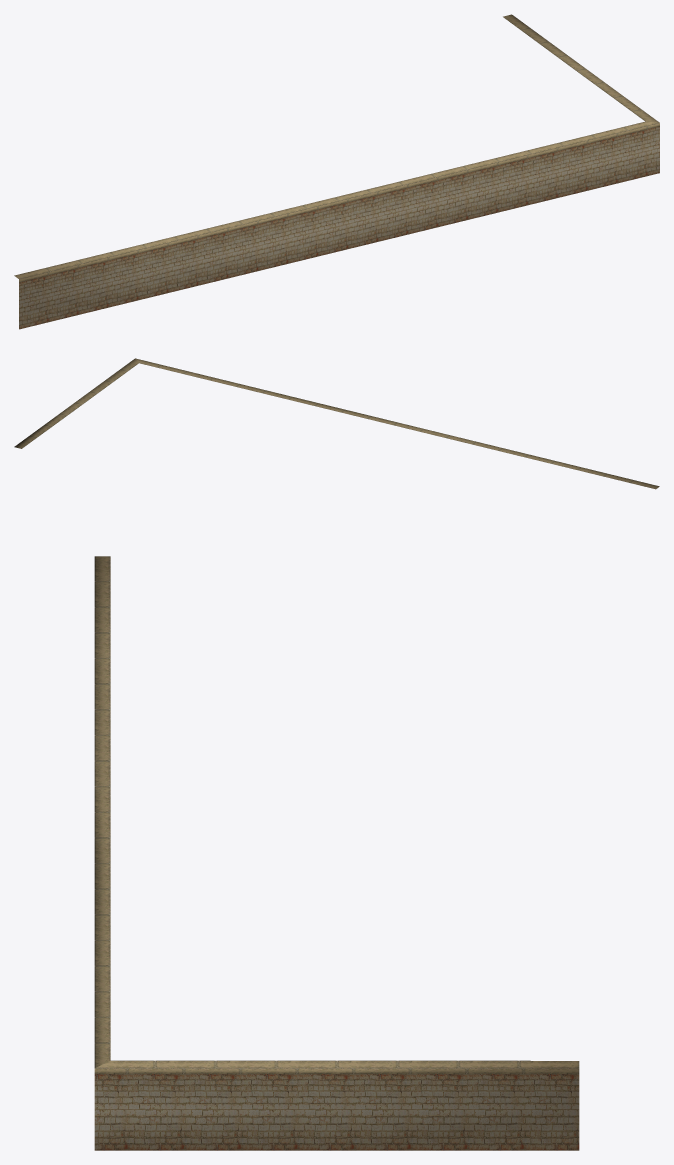
The model's file is M10_Z01_06_Wall.glb.
3 renders of one model, top to bottom at view 1: azimuth 30°, elevation 25°; view 2: azimuth 150°, elevation 25°; view 3: azimuth 270°, elevation 25°, orthographic. The views are drawn at different scales.
Visible parts, largest first — view 1: M10_Z01_06_WALL; view 2: M10_Z01_06_WALL; view 3: M10_Z01_06_WALL.
Part boxes in pixels (x1,y1,x2,y2): M10_Z01_06_WALL: (14,14,659,329); M10_Z01_06_WALL: (14,358,659,489); M10_Z01_06_WALL: (94,556,579,1150).
Size of the model in its own units: 40 by 3 by 16.
Materials: 2 (2 with a texture image).
